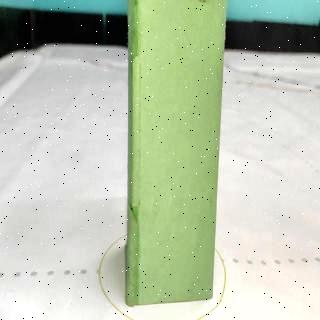greenbox: (126, 0, 226, 304)
